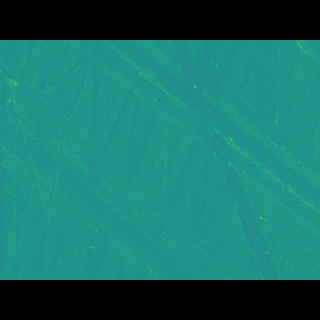Loch: (0, 88, 257, 250), (69, 69, 319, 217)
